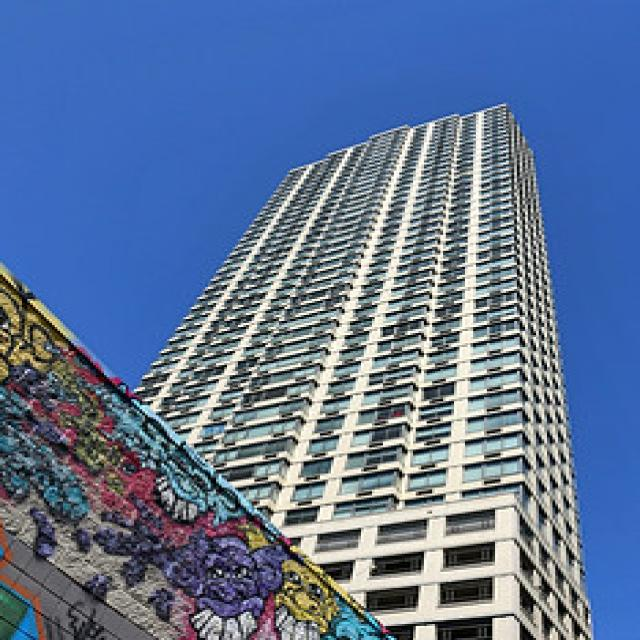building: (74, 98, 599, 640)
